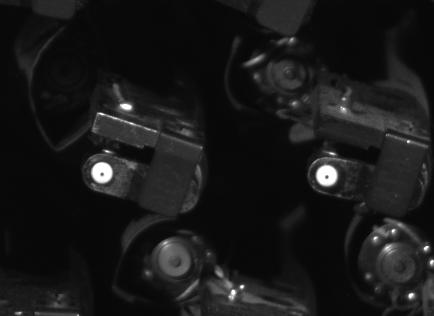fiber: (311, 161, 342, 190), (87, 160, 118, 188)
